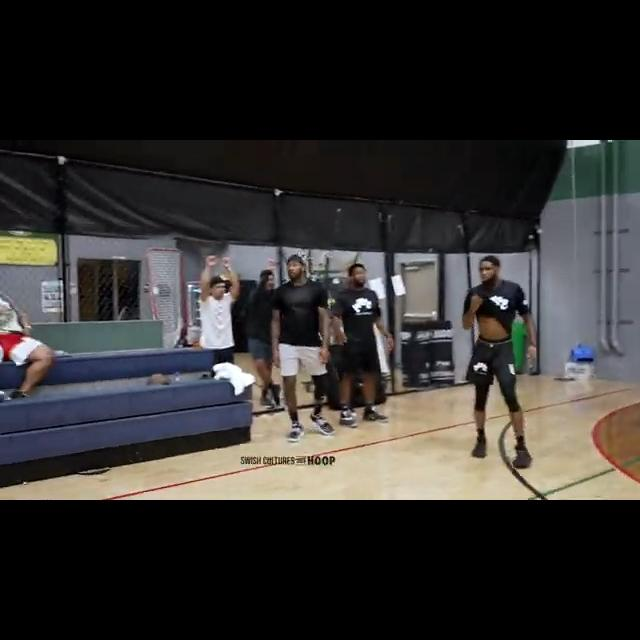person: (463, 254, 539, 468), (271, 254, 338, 442), (331, 264, 395, 426), (0, 288, 56, 403), (245, 266, 286, 413), (194, 252, 241, 375)
